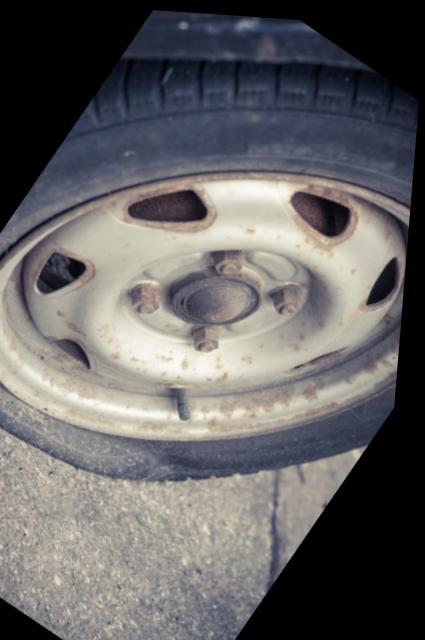tire flat: (0, 54, 420, 478)
